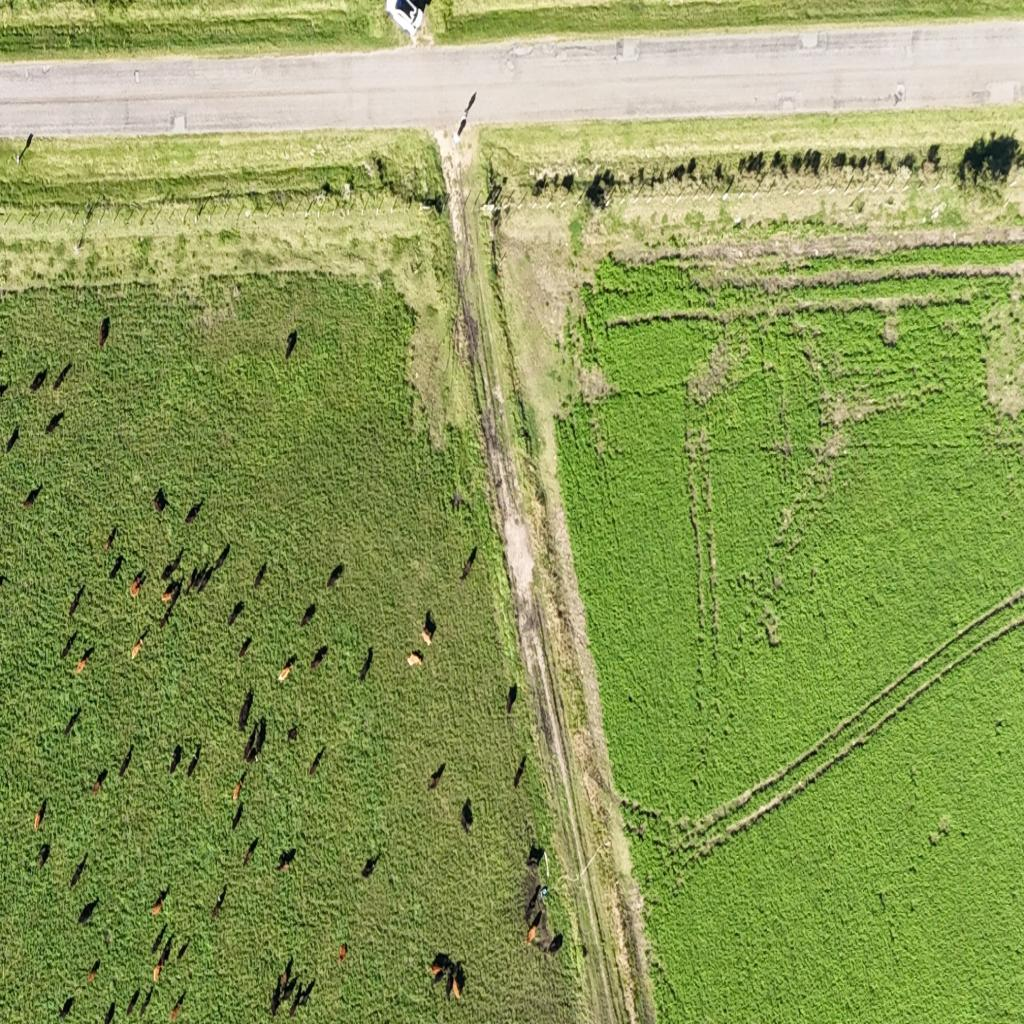cow: (160, 550, 182, 582), (68, 583, 86, 621), (154, 935, 172, 973), (69, 853, 88, 888), (211, 543, 230, 578), (238, 688, 253, 732), (287, 983, 305, 1019), (429, 952, 451, 980), (460, 544, 477, 580), (210, 884, 227, 920), (77, 896, 97, 926), (309, 745, 326, 779), (194, 560, 212, 592), (526, 840, 546, 868), (158, 600, 176, 631), (276, 656, 295, 685), (138, 984, 154, 1018), (61, 630, 79, 660), (118, 744, 133, 780), (76, 646, 94, 676), (270, 976, 283, 1017), (150, 922, 166, 955), (423, 610, 438, 645), (428, 762, 446, 791), (63, 708, 81, 737), (452, 962, 466, 999), (168, 883, 184, 915), (54, 362, 72, 390), (359, 646, 373, 682), (187, 742, 201, 778), (129, 571, 147, 599), (45, 409, 65, 434), (23, 483, 43, 508), (185, 564, 202, 593), (30, 366, 48, 393), (298, 602, 316, 629), (242, 838, 258, 868), (169, 992, 185, 1022), (513, 754, 527, 788), (150, 890, 167, 918), (277, 848, 296, 873), (361, 852, 379, 878), (184, 500, 202, 526), (309, 645, 327, 671), (161, 579, 179, 605), (125, 987, 140, 1018), (109, 553, 125, 582), (168, 743, 182, 776), (327, 562, 344, 589), (101, 526, 117, 554), (227, 600, 244, 626), (152, 487, 167, 516), (253, 561, 268, 589), (86, 956, 101, 984), (278, 960, 291, 992), (58, 994, 74, 1020), (91, 768, 107, 794), (36, 798, 48, 832), (37, 842, 51, 871), (98, 317, 110, 350), (6, 426, 20, 454), (506, 682, 518, 714), (461, 799, 473, 830), (176, 937, 190, 963), (232, 800, 244, 830), (525, 922, 540, 945), (285, 332, 297, 360), (238, 635, 252, 658), (524, 896, 538, 919), (446, 968, 456, 1000), (103, 1000, 116, 1024), (255, 728, 266, 754), (153, 960, 165, 982), (407, 652, 423, 668), (232, 778, 242, 803), (130, 641, 142, 661), (242, 737, 253, 758), (0, 380, 10, 400), (0, 570, 10, 590), (287, 726, 299, 742), (548, 936, 560, 952), (247, 746, 256, 767), (338, 943, 347, 963), (104, 928, 112, 949), (581, 942, 588, 958)
